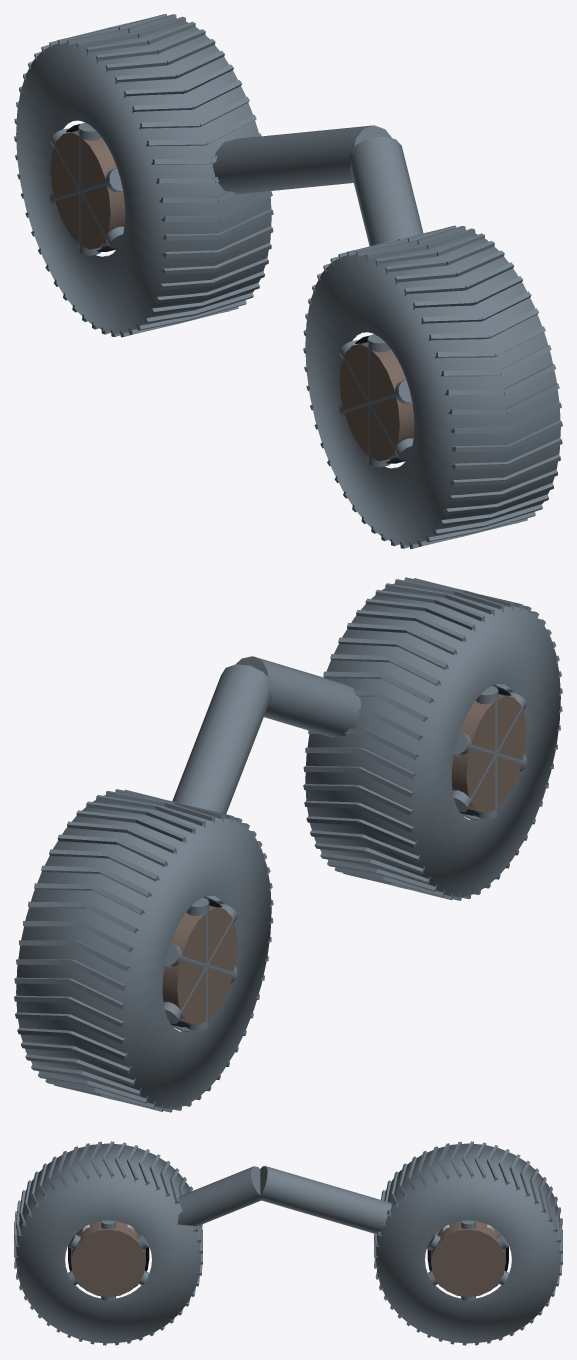
The model's file is perseverance_mobility.rocker_left.bogie.glb.
3 renders of one model, top to bottom at view 1: azimuth 30°, elevation 25°; view 2: azimuth 150°, elevation 25°; view 3: azimuth 270°, elevation 25°, orthographic. The views are drawn at different scales.
Visible parts, largest first — view 1: perseverance_mobility.rocker_left.bogie.axle_middle.wheel_mi (×2), perseverance_mobility.rocker_left.bogie.steer_rear.wheel_rea (×2), perseverance_mobility.rocker_left.bogie.mesh_Machined_steel; view 2: perseverance_mobility.rocker_left.bogie.steer_rear.wheel_rea (×2), perseverance_mobility.rocker_left.bogie.axle_middle.wheel_mi (×2), perseverance_mobility.rocker_left.bogie.mesh_Machined_steel; view 3: perseverance_mobility.rocker_left.bogie.steer_rear.wheel_rea (×2), perseverance_mobility.rocker_left.bogie.axle_middle.wheel_mi (×2), perseverance_mobility.rocker_left.bogie.mesh_Machined_steel.
Part boxes in pixels (x1,y1,x2,y2): perseverance_mobility.rocker_left.bogie.axle_middle.wheel_mi (×2): (303,225,562,548); perseverance_mobility.rocker_left.bogie.steer_rear.wheel_rea (×2): (14,14,273,337); perseverance_mobility.rocker_left.bogie.mesh_Machined_steel: (212,125,423,246); perseverance_mobility.rocker_left.bogie.steer_rear.wheel_rea (×2): (14,789,273,1112); perseverance_mobility.rocker_left.bogie.axle_middle.wheel_mi (×2): (303,577,562,900); perseverance_mobility.rocker_left.bogie.mesh_Machined_steel: (172,656,360,813); perseverance_mobility.rocker_left.bogie.steer_rear.wheel_rea (×2): (374,1141,562,1345); perseverance_mobility.rocker_left.bogie.axle_middle.wheel_mi (×2): (14,1141,202,1345); perseverance_mobility.rocker_left.bogie.mesh_Machined_steel: (134,1166,439,1250).
Size of the model in its own units: 0.3072 by 0.5641 by 1.56.
